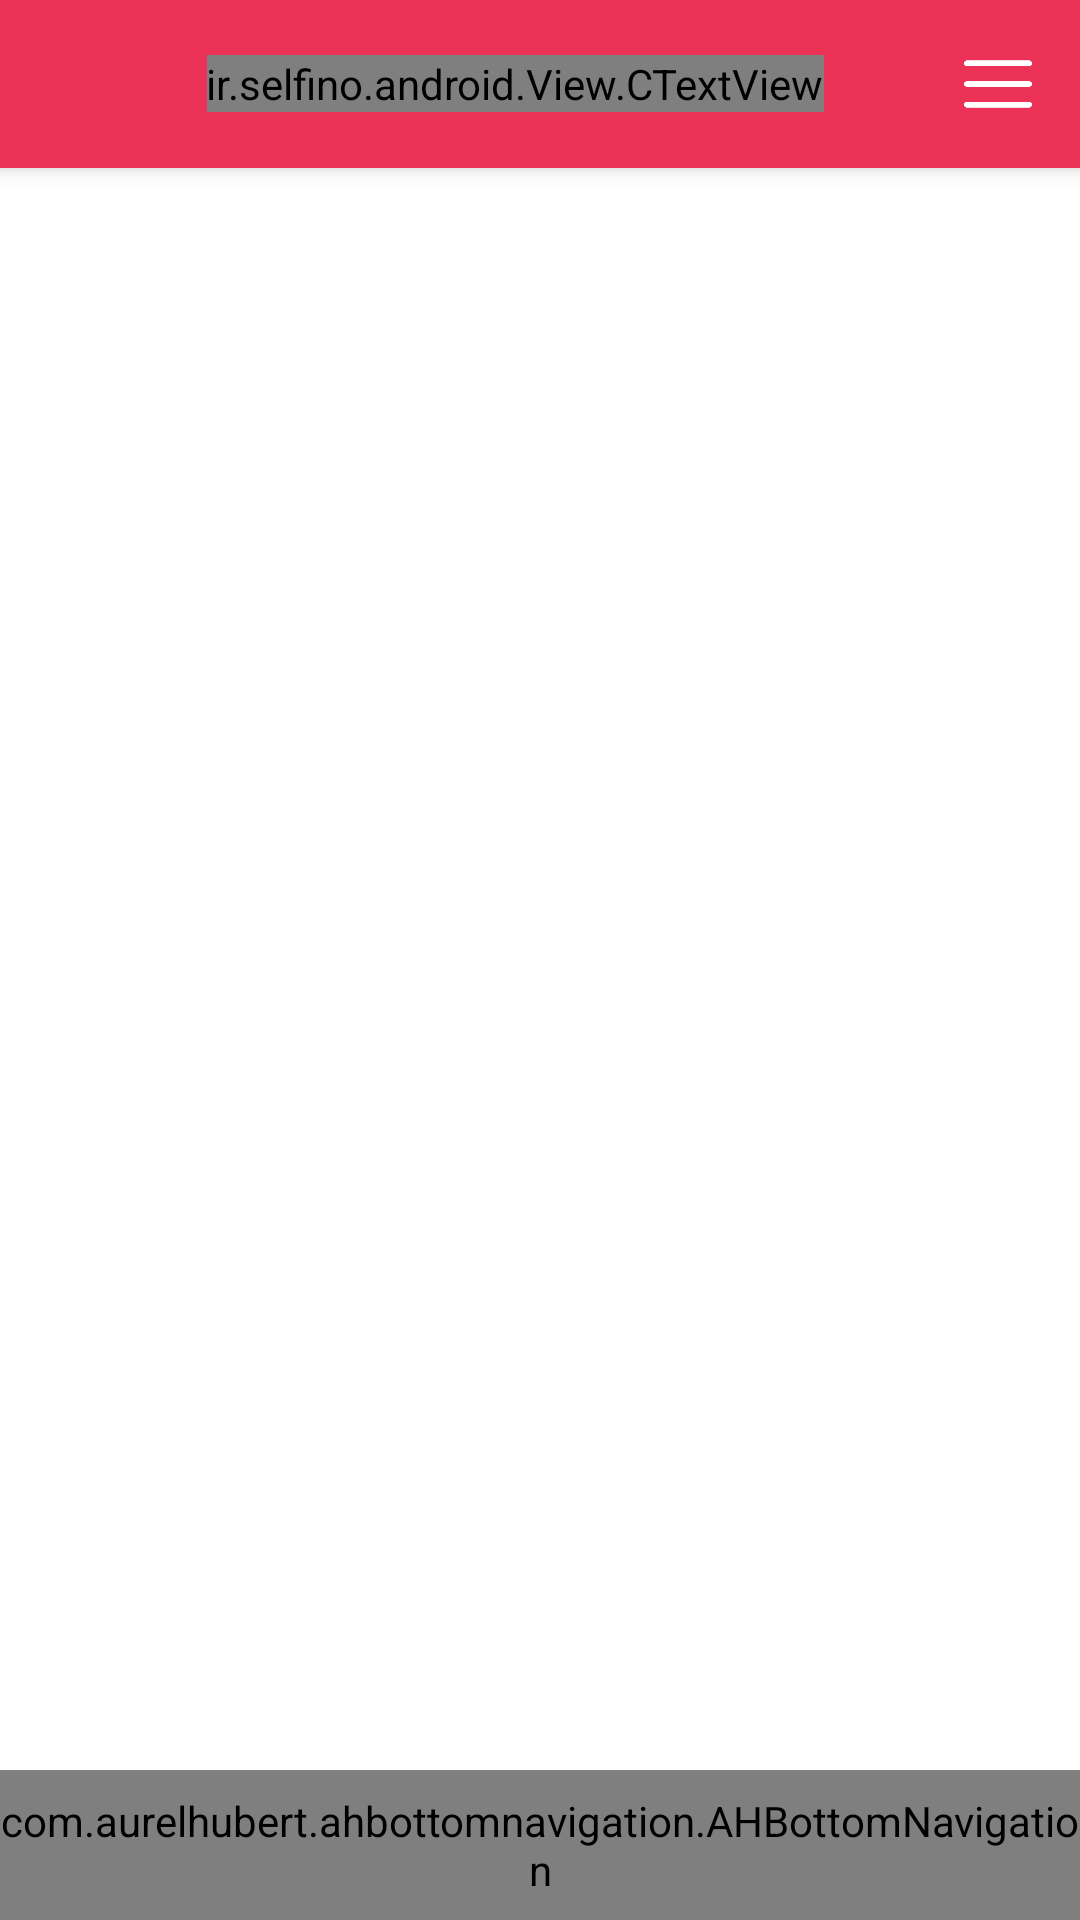

Icon click points for this 1080px x 1920px phone screenshot, format (x=x, y=y):
menu: (x=998, y=84)
